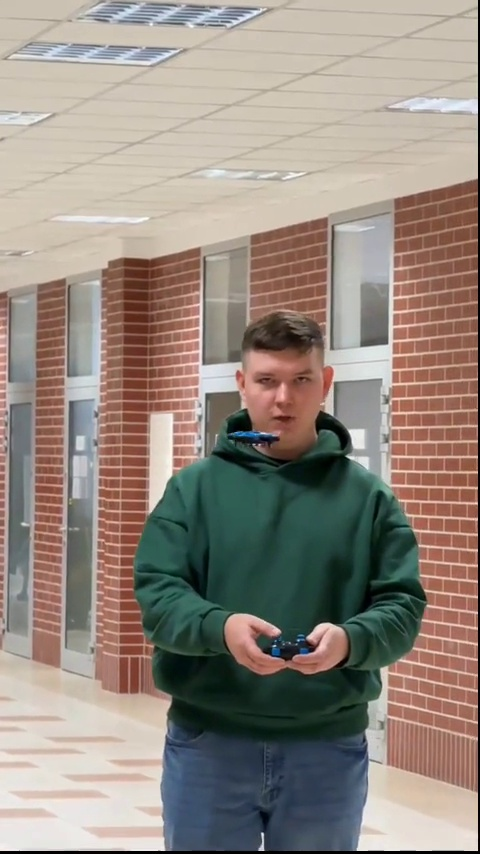drone: (231, 429, 283, 449)
no vest: (136, 311, 435, 844)
